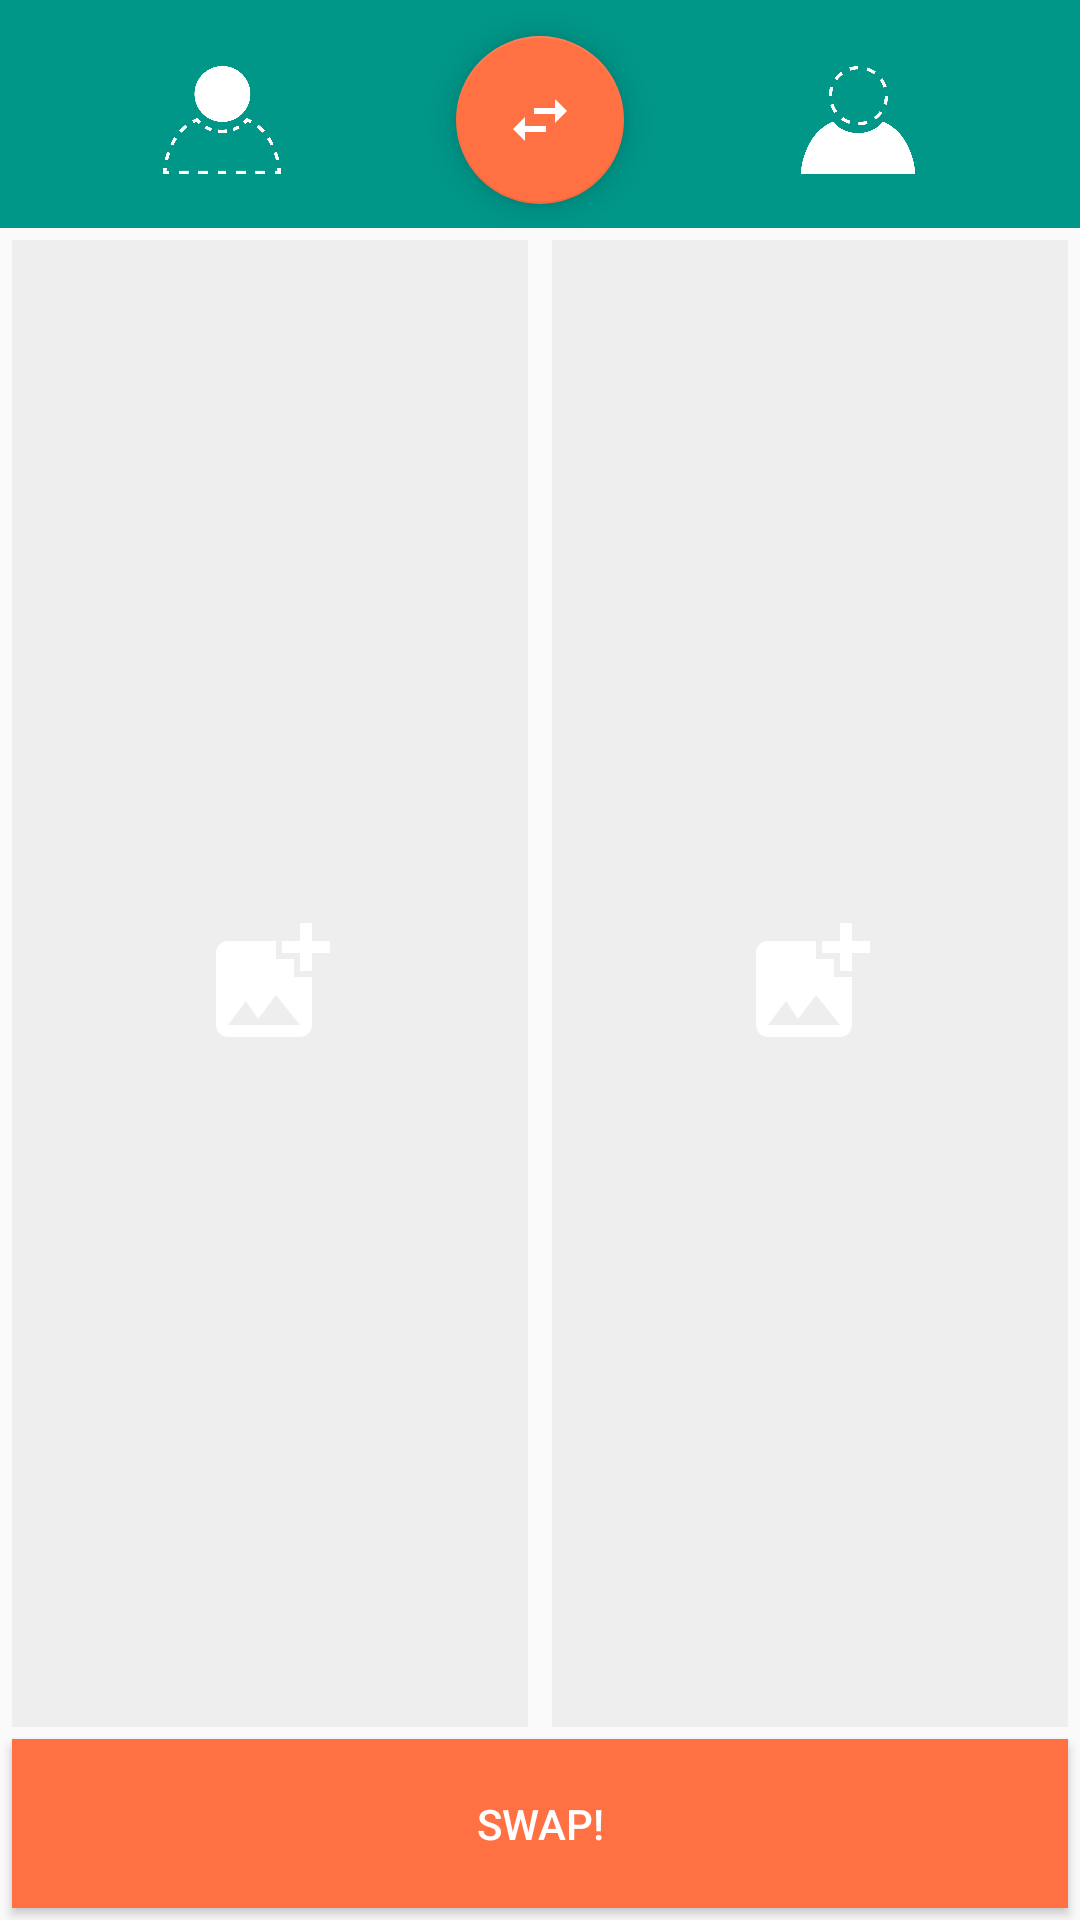

Named icons in this screenshot (1080w x 1920h) and their bounding boxes, rect(x1, y1, x2, y2):
swap horiz: rect(456, 36, 624, 204)
